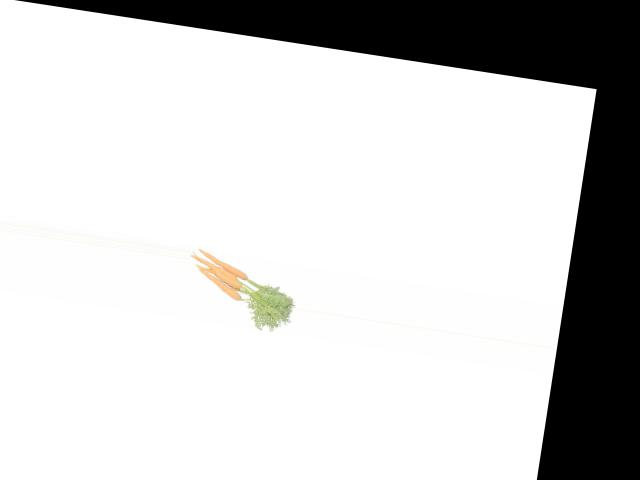carrot: (193, 243, 254, 283)
